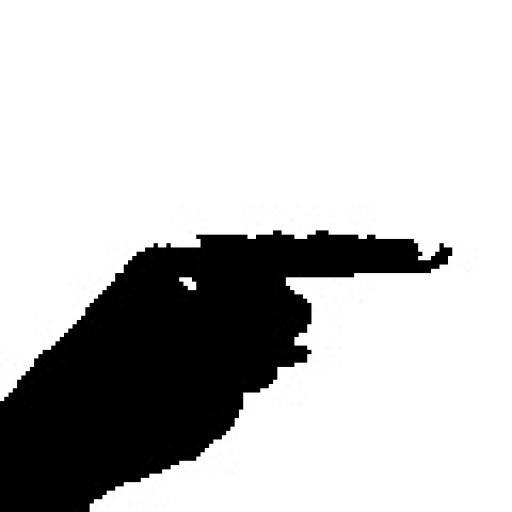index_right: (0, 227, 454, 419)
